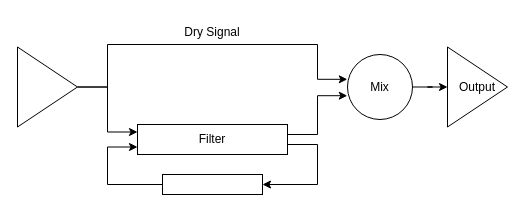
Image size: 525x212. Some labels were removed from this diagram. Here are the shapes that lost their labels. From the top down, the centre of each, then its label:
At (x=47, y=86): "Input".
At (x=212, y=184): "Decay buffer".
